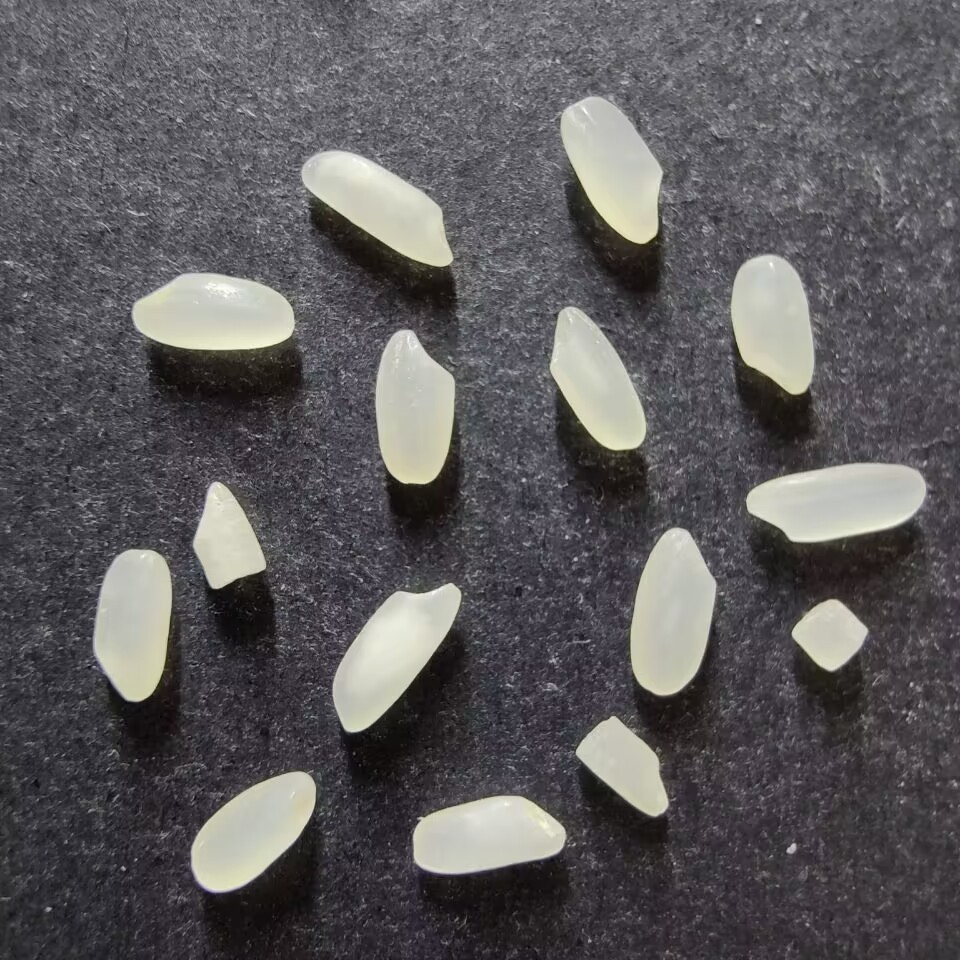broken: (573, 715, 669, 817), (190, 481, 266, 590), (790, 598, 869, 672)
rice: (331, 581, 462, 733), (300, 150, 454, 267), (559, 96, 664, 244), (190, 770, 316, 893), (628, 526, 716, 695), (744, 462, 925, 542), (548, 306, 646, 451), (131, 272, 294, 351), (374, 328, 455, 485), (92, 548, 172, 703), (411, 794, 566, 874), (729, 255, 814, 395)
